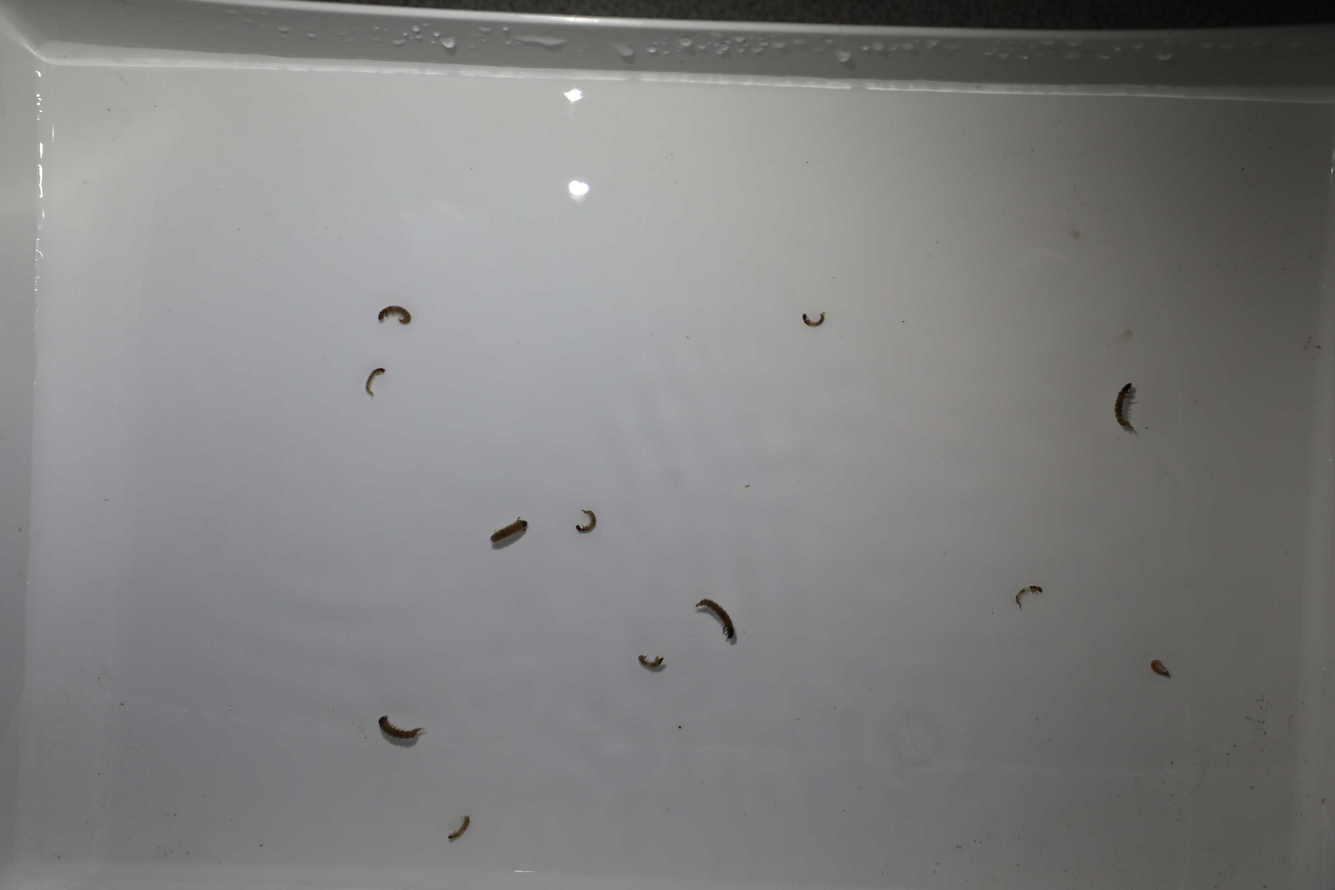Cadisfly: (692, 594, 740, 649), (375, 717, 426, 750), (489, 514, 530, 553), (1113, 378, 1139, 438), (373, 292, 411, 329), (444, 811, 474, 845), (1011, 583, 1045, 611), (362, 365, 388, 398), (634, 651, 669, 674), (573, 507, 596, 537), (799, 307, 826, 332), (1148, 657, 1174, 680)
